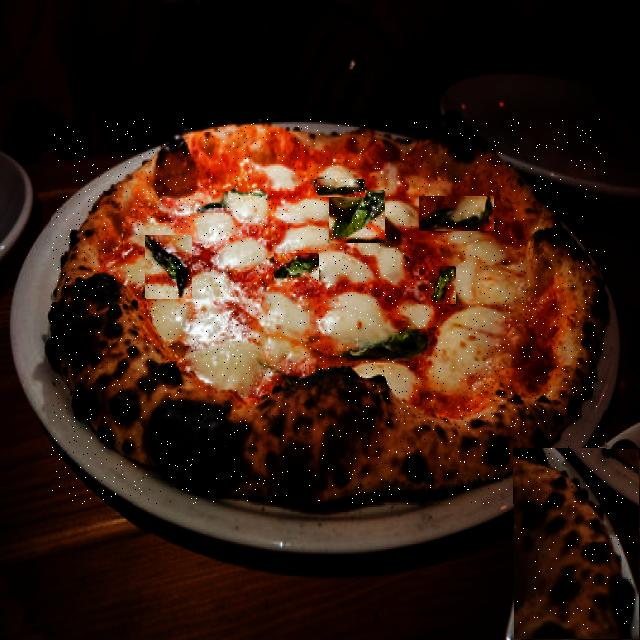Basil: (146, 236, 192, 299), (330, 191, 385, 243), (420, 197, 494, 231), (352, 333, 428, 356), (275, 255, 319, 282), (430, 267, 456, 304), (318, 180, 365, 197)
Pizza: (52, 119, 606, 504), (515, 449, 638, 638)
